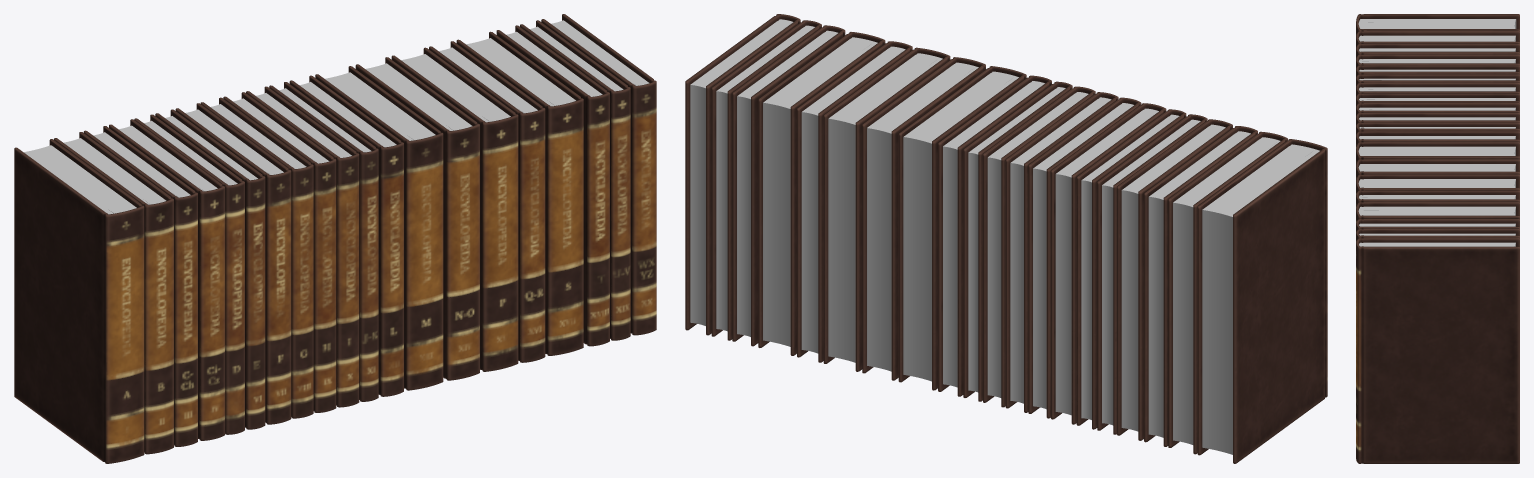
The model's file is book_encyclopedia_set_01_1k.fbx.
3 views of the same model, side by side, from view 1: azimuth 30°, elevation 25°; view 2: azimuth 150°, elevation 25°; view 3: azimuth 270°, elevation 25° (orthographic). The views are drawn at different scales.
Parts seen in each view (by area): view 1: book_encyclopedia_set_01_book01, book_encyclopedia_set_01_book13, book_encyclopedia_set_01_book15, book_encyclopedia_set_01_book17, book_encyclopedia_set_01_book14, book_encyclopedia_set_01_book02, book_encyclopedia_set_01_book16, book_encyclopedia_set_01_book04, book_encyclopedia_set_01_book18, book_encyclopedia_set_01_book20, book_encyclopedia_set_01_book07, book_encyclopedia_set_01_book12 (+8 smaller); view 2: book_encyclopedia_set_01_book01, book_encyclopedia_set_01_book13, book_encyclopedia_set_01_book15, book_encyclopedia_set_01_book17, book_encyclopedia_set_01_book14, book_encyclopedia_set_01_book02, book_encyclopedia_set_01_book04, book_encyclopedia_set_01_book16, book_encyclopedia_set_01_book18, book_encyclopedia_set_01_book20, book_encyclopedia_set_01_book07, book_encyclopedia_set_01_book12 (+8 smaller); view 3: book_encyclopedia_set_01_book20, book_encyclopedia_set_01_book13, book_encyclopedia_set_01_book01, book_encyclopedia_set_01_book17, book_encyclopedia_set_01_book15, book_encyclopedia_set_01_book14, book_encyclopedia_set_01_book02, book_encyclopedia_set_01_book16, book_encyclopedia_set_01_book03, book_encyclopedia_set_01_book12, book_encyclopedia_set_01_book07, book_encyclopedia_set_01_book04 (+8 smaller).
Boxes of the visible parts, left/top/right/bottom form: book_encyclopedia_set_01_book01: left=14, top=139, right=144, bottom=463; book_encyclopedia_set_01_book13: left=315, top=66, right=443, bottom=390; book_encyclopedia_set_01_book15: left=391, top=47, right=518, bottom=371; book_encyclopedia_set_01_book17: left=456, top=31, right=583, bottom=355; book_encyclopedia_set_01_book14: left=355, top=57, right=479, bottom=380; book_encyclopedia_set_01_book02: left=54, top=132, right=173, bottom=454; book_encyclopedia_set_01_book16: left=429, top=41, right=545, bottom=362; book_encyclopedia_set_01_book04: left=109, top=119, right=224, bottom=440; book_encyclopedia_set_01_book18: left=496, top=25, right=609, bottom=346; book_encyclopedia_set_01_book20: left=541, top=14, right=656, bottom=335; book_encyclopedia_set_01_book07: left=175, top=103, right=291, bottom=424; book_encyclopedia_set_01_book12: left=289, top=75, right=403, bottom=396; book_encyclopedia_set_01_book01: left=1197, top=139, right=1327, bottom=463; book_encyclopedia_set_01_book13: left=898, top=66, right=1026, bottom=390; book_encyclopedia_set_01_book15: left=823, top=47, right=950, bottom=371; book_encyclopedia_set_01_book17: left=758, top=32, right=885, bottom=355; book_encyclopedia_set_01_book14: left=862, top=57, right=985, bottom=380; book_encyclopedia_set_01_book02: left=1168, top=131, right=1287, bottom=454; book_encyclopedia_set_01_book04: left=1117, top=119, right=1232, bottom=440; book_encyclopedia_set_01_book16: left=797, top=41, right=912, bottom=362; book_encyclopedia_set_01_book18: left=732, top=25, right=845, bottom=346; book_encyclopedia_set_01_book20: left=685, top=14, right=800, bottom=335; book_encyclopedia_set_01_book07: left=1051, top=103, right=1166, bottom=424; book_encyclopedia_set_01_book12: left=938, top=75, right=1051, bottom=396; book_encyclopedia_set_01_book20: left=1356, top=238, right=1519, bottom=463; book_encyclopedia_set_01_book13: left=1356, top=142, right=1519, bottom=164; book_encyclopedia_set_01_book01: left=1356, top=14, right=1519, bottom=35; book_encyclopedia_set_01_book17: left=1356, top=202, right=1519, bottom=222; book_encyclopedia_set_01_book15: left=1356, top=174, right=1519, bottom=194; book_encyclopedia_set_01_book14: left=1356, top=159, right=1519, bottom=180; book_encyclopedia_set_01_book02: left=1356, top=30, right=1519, bottom=47; book_encyclopedia_set_01_book16: left=1356, top=190, right=1519, bottom=208; book_encyclopedia_set_01_book03: left=1356, top=43, right=1519, bottom=58; book_encyclopedia_set_01_book12: left=1356, top=131, right=1519, bottom=148; book_encyclopedia_set_01_book07: left=1356, top=82, right=1519, bottom=96; book_encyclopedia_set_01_book04: left=1356, top=54, right=1519, bottom=68.
Size of the model in its own units: 55.13 by 23.74 by 16.31.
